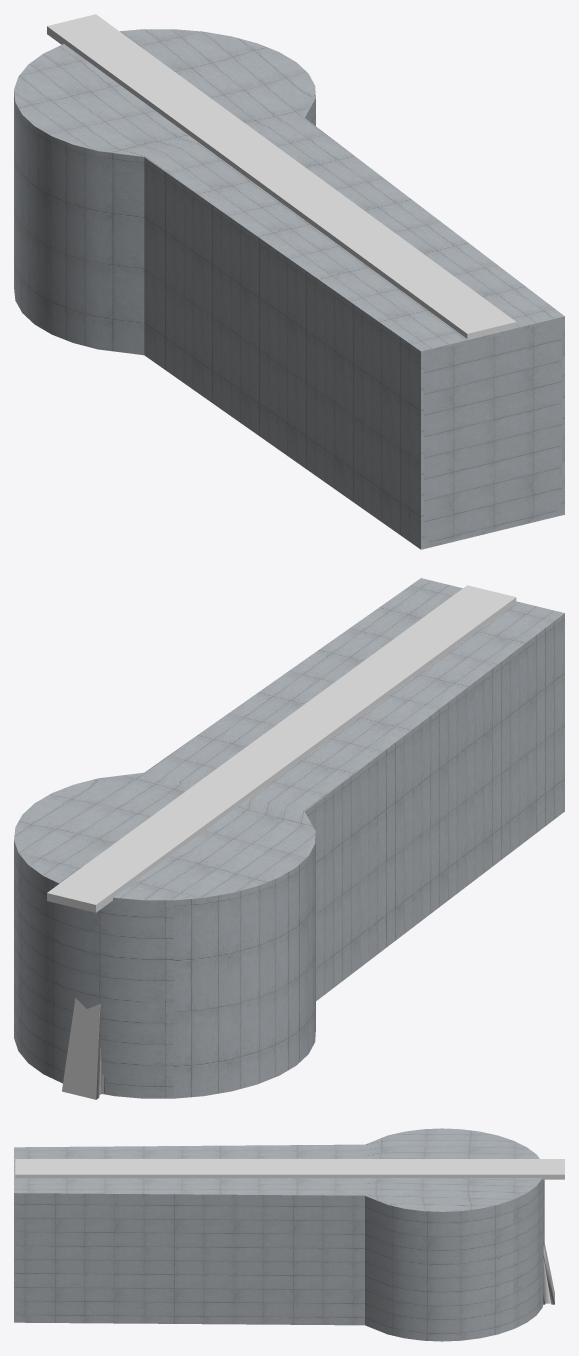
Rendered from hab.glb.
3 views of the same model, one above another, from view 1: azimuth 30°, elevation 25°; view 2: azimuth 150°, elevation 25°; view 3: azimuth 270°, elevation 25° (orthographic). The views are drawn at different scales.
Visible parts, largest first — view 1: Cylinder, Cube; view 2: Cylinder, Cube, Cube.001; view 3: Cylinder, Cube, Cube.001.
Boxes of the visible parts, bbox=[...] form: Cylinder: bbox=[14, 29, 564, 549]; Cube: bbox=[47, 14, 516, 338]; Cylinder: bbox=[14, 578, 564, 1098]; Cube: bbox=[47, 585, 516, 912]; Cube.001: bbox=[62, 998, 105, 1099]; Cylinder: bbox=[14, 1128, 544, 1341]; Cube: bbox=[15, 1159, 564, 1179]; Cube.001: bbox=[543, 1243, 554, 1304].
Bounding box in the file's own units: 2.76 × 2.05 × 7.71.
Materials: 2 (2 with a texture image).
